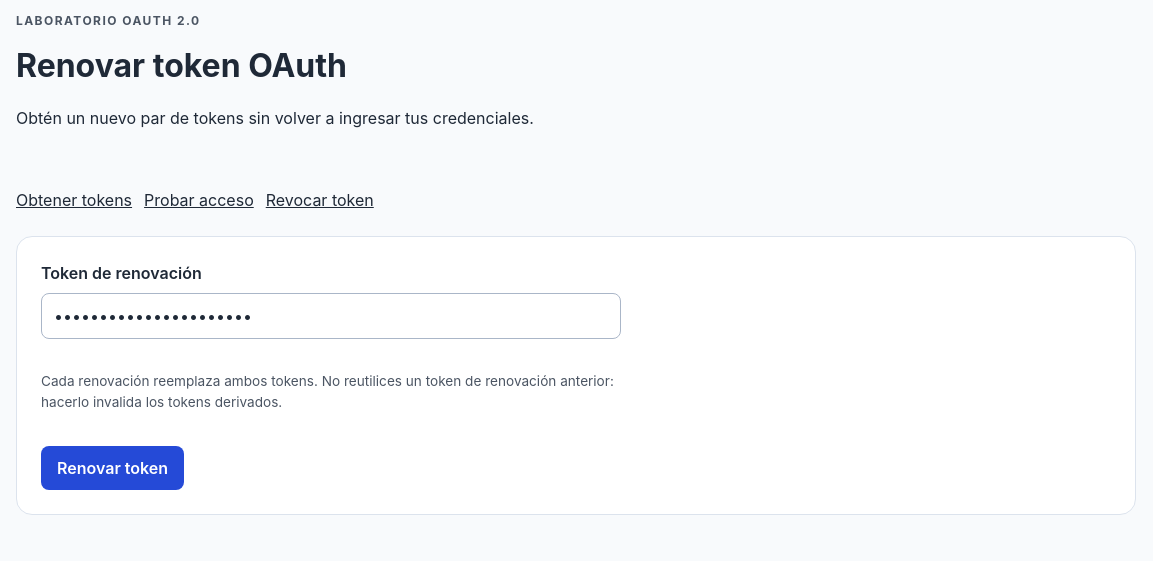
Test: muestra la causa exacta: El token de renovación ha expirado
Click the button "Renovar token".
click(112, 468)  # box left=41, top=446, right=184, bottom=490
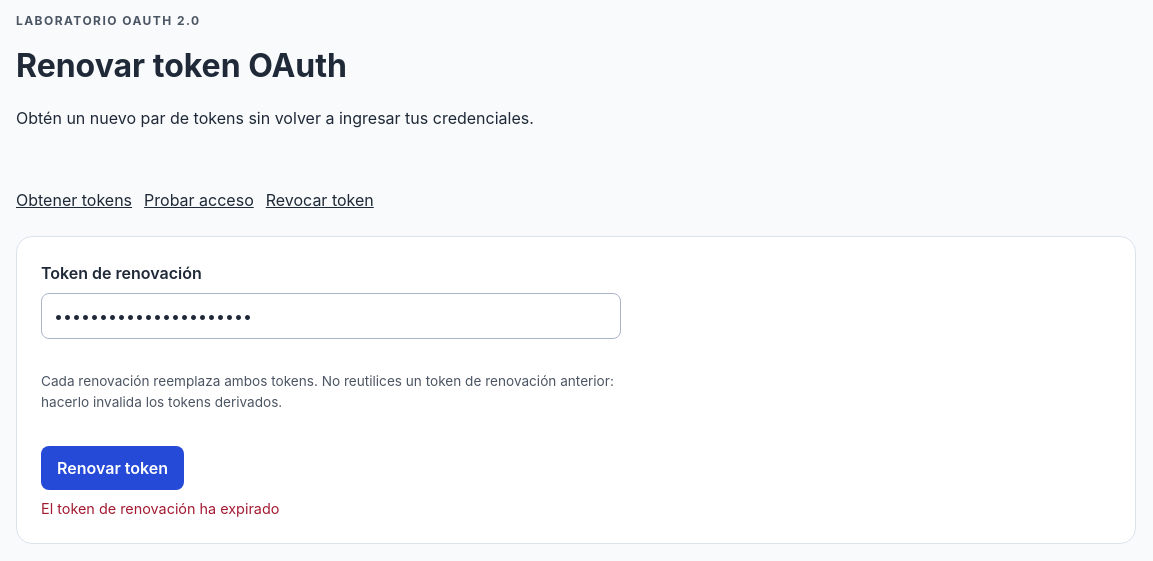
Expected: the message reads "El token de renovación ha expirado", left=41, top=500, right=279, bottom=517
